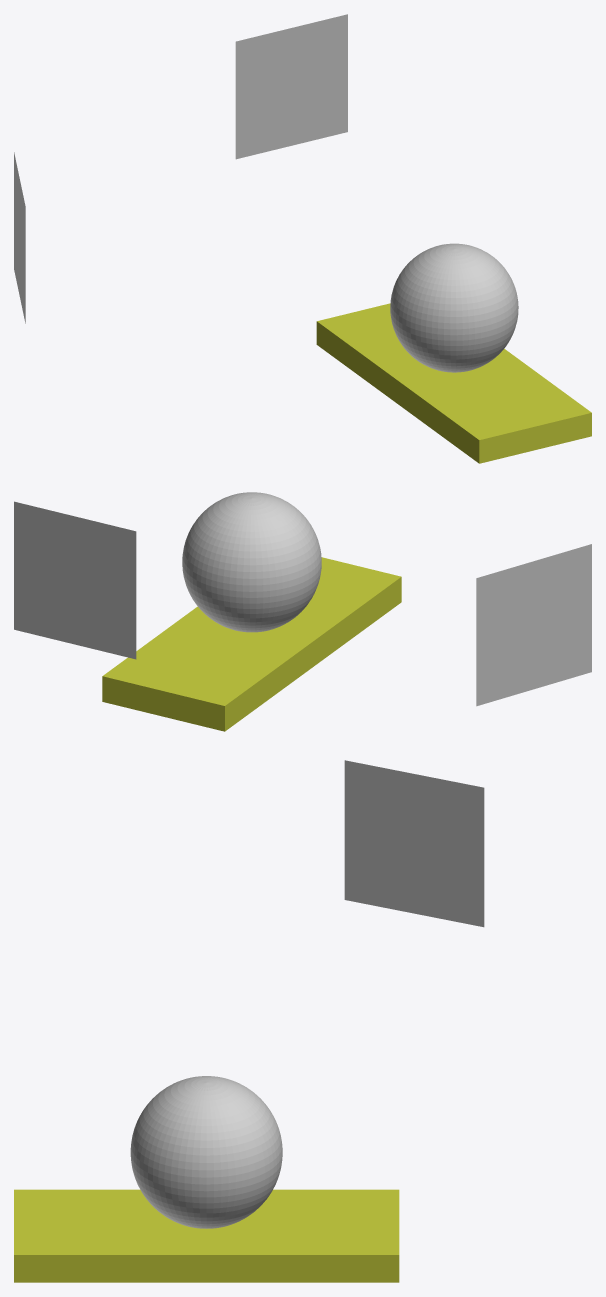
The model's file is sphere_stair.obj.
The picture shows the model from 3 angles, top to bottom: view 1: azimuth 30°, elevation 25°; view 2: azimuth 150°, elevation 25°; view 3: azimuth 270°, elevation 25°; orthographic projection. The views are drawn at different scales.
Visible parts, largest first — view 1: Cube, Light1, Sphere, Light2; view 2: Cube, Light1, Sphere, Light2; view 3: Cube, Light2, Sphere.
Part boxes in pixels (x1,y1,x2,y2): Cube: [316, 303, 591, 463]; Light1: [235, 14, 347, 159]; Sphere: [390, 243, 518, 372]; Light2: [14, 152, 25, 323]; Cube: [102, 557, 401, 731]; Light1: [14, 501, 136, 659]; Sphere: [182, 492, 321, 632]; Light2: [476, 544, 591, 706]; Cube: [14, 1189, 399, 1282]; Light2: [344, 760, 484, 927]; Sphere: [130, 1076, 282, 1228].
Size of what is drawn, in the model's own units: 7.58 by 4.14 by 7.5.
